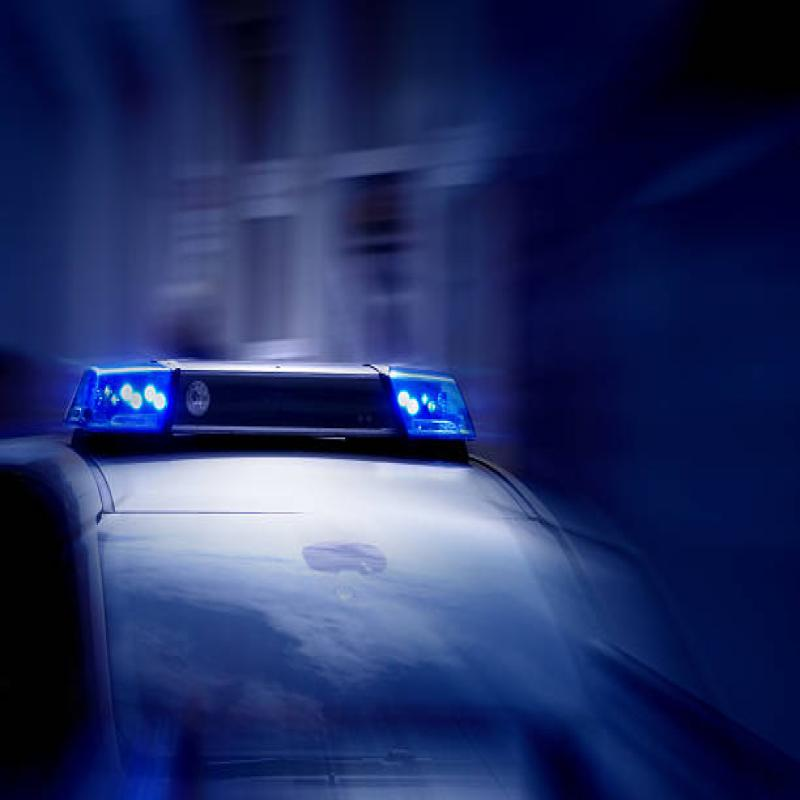AmbulanceSiren: (46, 341, 469, 487)
